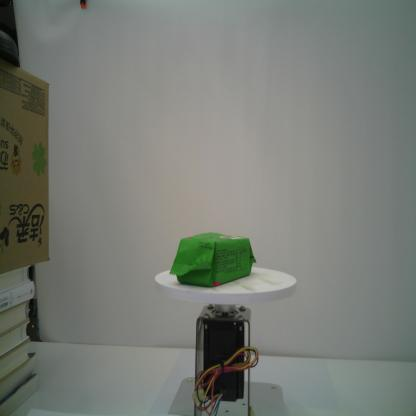Dessert: (168, 231, 256, 289)
